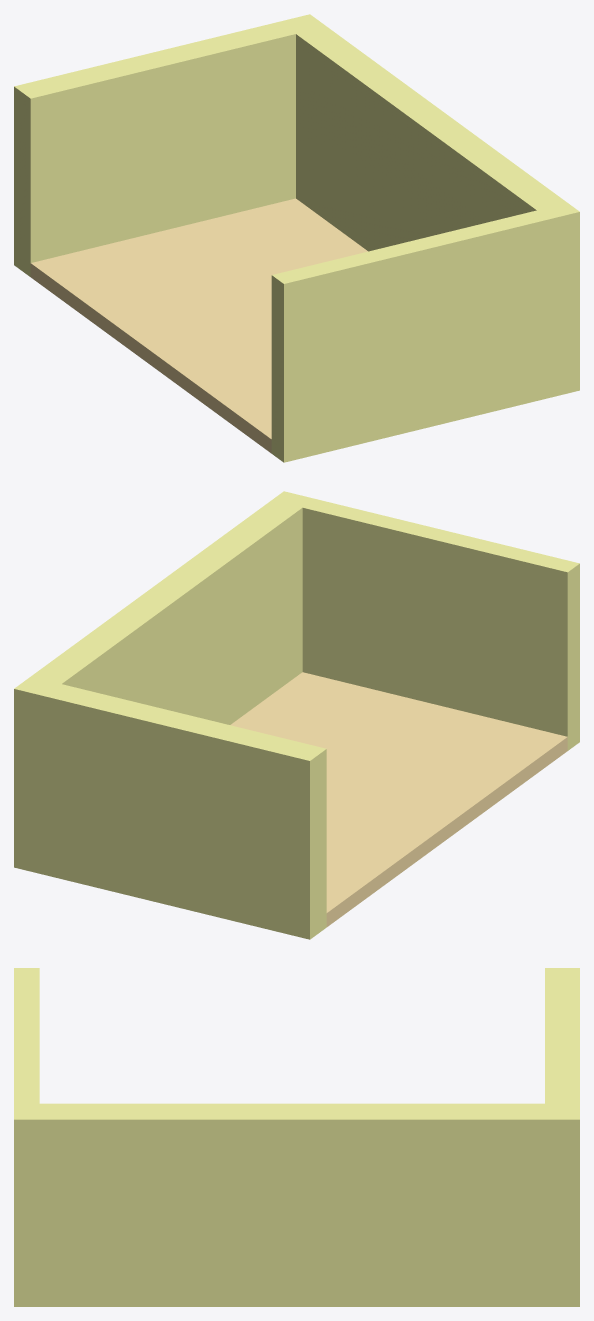
The model's file is roomBuild.obj.
3 renders of one model, top to bottom at view 1: azimuth 30°, elevation 25°; view 2: azimuth 150°, elevation 25°; view 3: azimuth 270°, elevation 25°, orthographic. The views are drawn at different scales.
Parts seen in each view (by area): view 1: roomBuild; view 2: roomBuild; view 3: roomBuild.
Part boxes in pixels (left/top/right/bottom): roomBuild: left=14, top=14, right=579, bottom=462; roomBuild: left=14, top=491, right=579, bottom=939; roomBuild: left=14, top=968, right=579, bottom=1306.
Bounding box in the file's own units: 10.11 × 5.83 × 15.97.
